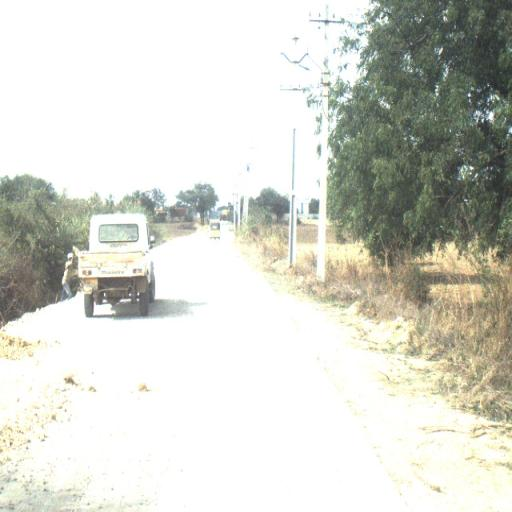street_light_0: (297, 62, 330, 88)
